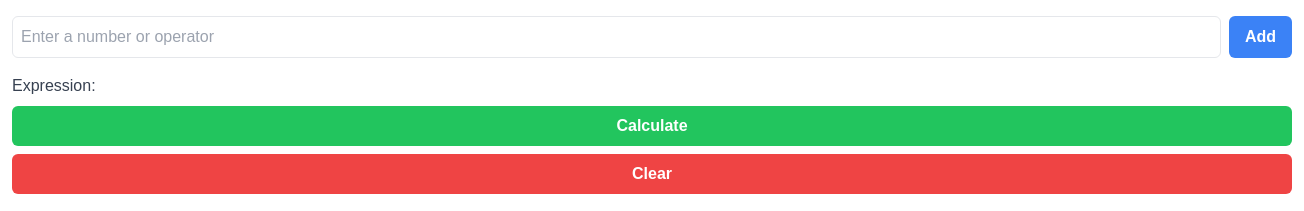
Test case: Calculator Component › adds number to expression
The image size is (1304, 211).
Type "2" into the field with placeholder "Enter a number or operator" at (616, 37), box [12, 16, 1221, 58]
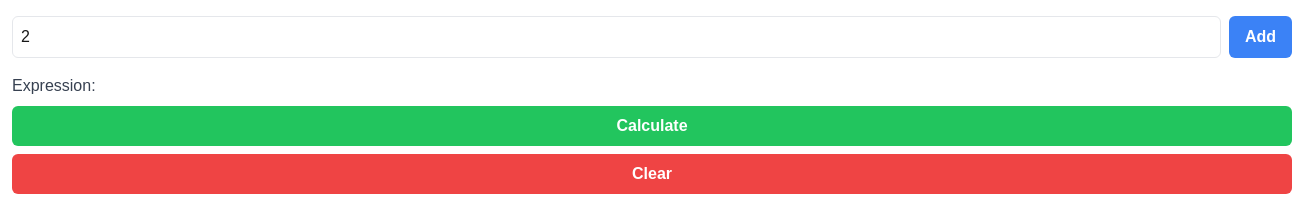
Click the button "Add" at (1260, 37), box [1229, 16, 1292, 58]
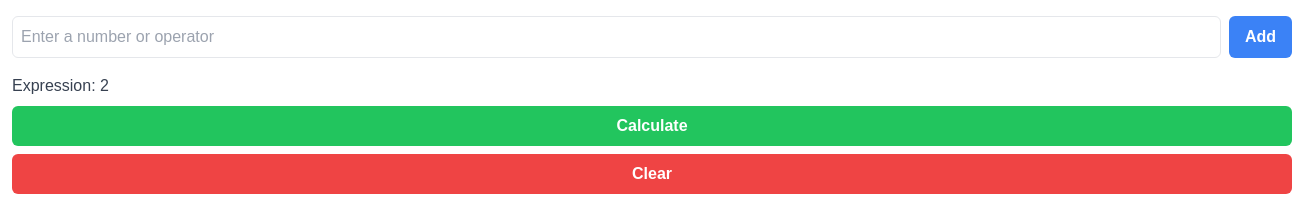
Now the text "Expression: 2" is shown, box [12, 77, 109, 94]
